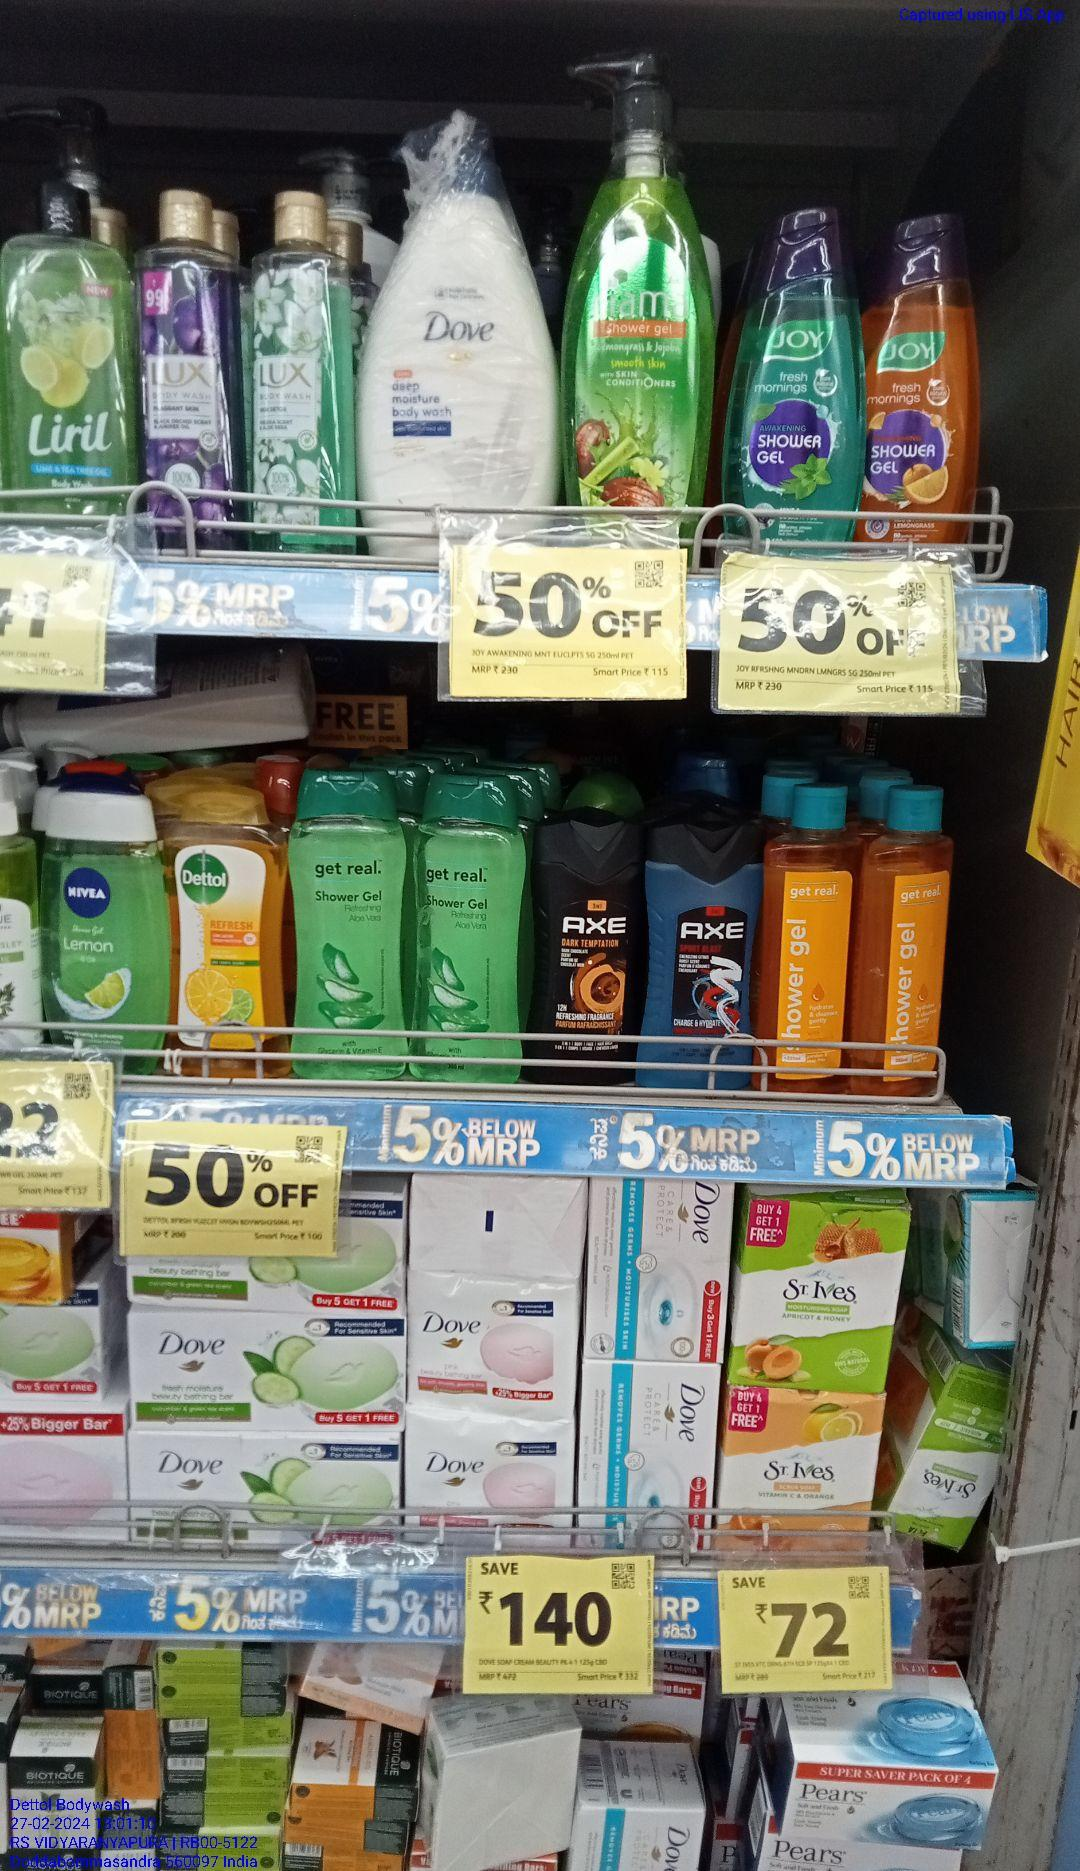Dettol_Bodywash_Refresh: (171, 788, 285, 1081)
Joy_Shower_Gel_Mandarin_and_Lemongrass_250ML: (867, 208, 980, 555)
Joy_Shower_Gel_Mint_and_Eucalyptus_250ML: (733, 204, 860, 559)
Lux_Black_Orchid_Scent_and_Juniper_Oil_Body_Wash_245ML: (135, 184, 239, 556)
Lux_Body_Wash_Skin_Detox_Freesia_Scent_and_Alove_Vera_245ML: (246, 184, 352, 563)
Nivea_Shower_Gel_Lemon_and_Oil_250ML: (44, 780, 161, 1081)
